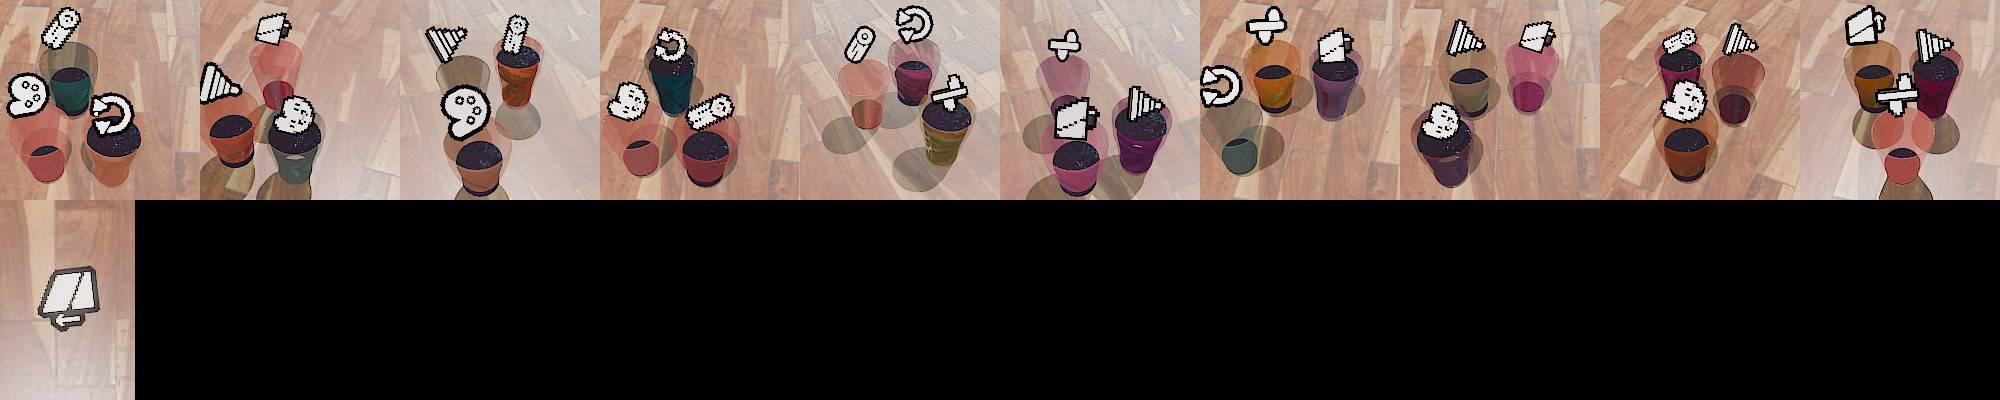icon: (36, 265, 102, 333), (440, 84, 491, 141), (1053, 94, 1100, 141), (1874, 70, 1920, 116), (90, 92, 137, 137), (5, 71, 49, 119), (684, 92, 736, 132), (1661, 79, 1708, 122), (198, 61, 242, 105), (273, 93, 317, 135), (605, 80, 649, 122), (425, 24, 468, 66), (930, 70, 972, 113), (1200, 65, 1240, 110), (1844, 4, 1886, 46), (1245, 6, 1288, 47), (42, 6, 82, 50), (1127, 82, 1166, 123), (1445, 18, 1486, 57), (1420, 101, 1460, 139), (895, 5, 932, 46), (1914, 29, 1955, 64), (652, 27, 689, 64), (1317, 27, 1353, 64), (255, 11, 293, 46), (1722, 22, 1759, 57), (1519, 20, 1557, 54), (844, 24, 876, 64), (1660, 25, 1699, 57), (502, 14, 530, 57), (1047, 28, 1082, 61)
